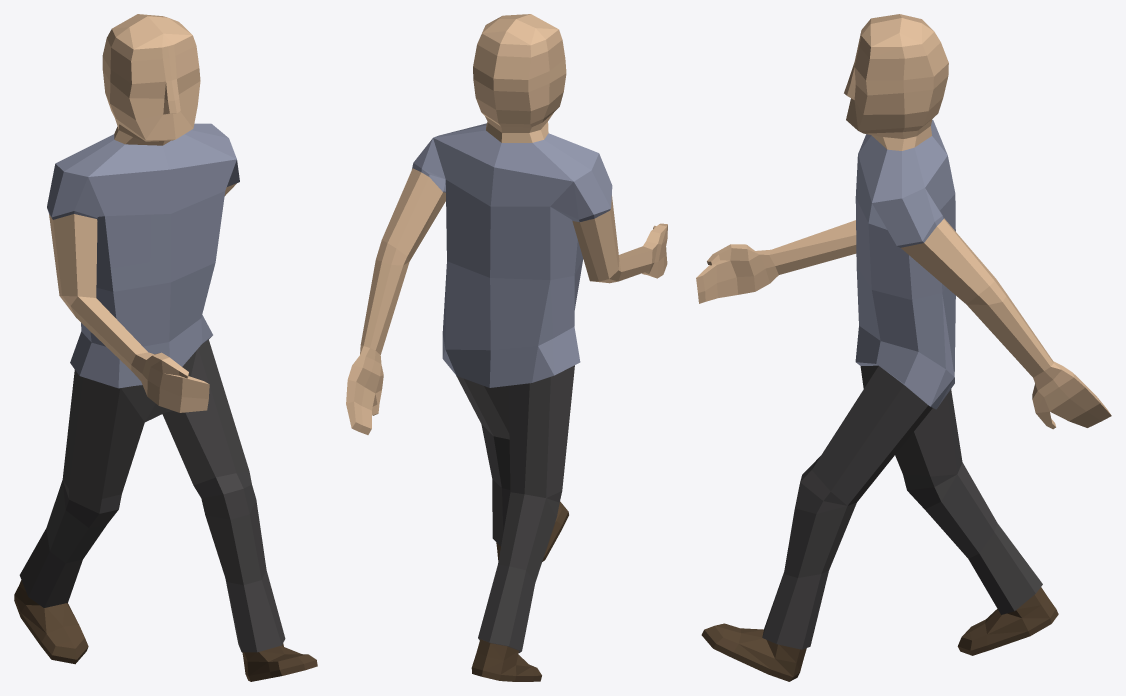
File: Male_Running.glb
3 renders of one model, left to right at view 1: azimuth 30°, elevation 25°; view 2: azimuth 150°, elevation 25°; view 3: azimuth 270°, elevation 25°, orthographic. The views are drawn at different scales.
Visible parts, largest first — view 1: Male_Running; view 2: Male_Running; view 3: Male_Running.
Part boxes in pixels (x1=…): Male_Running: x1=14, y1=14, x2=317, y2=681; Male_Running: x1=346, y1=14, x2=667, y2=681; Male_Running: x1=696, y1=14, x2=1111, y2=681.
Bounding box in the file's own units: 1.21 × 3.85 × 2.21.
